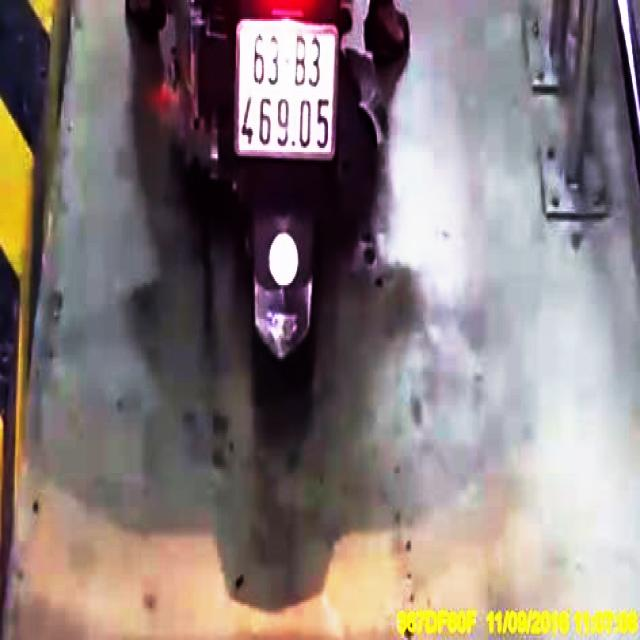license_plate: (238, 24, 338, 160)
